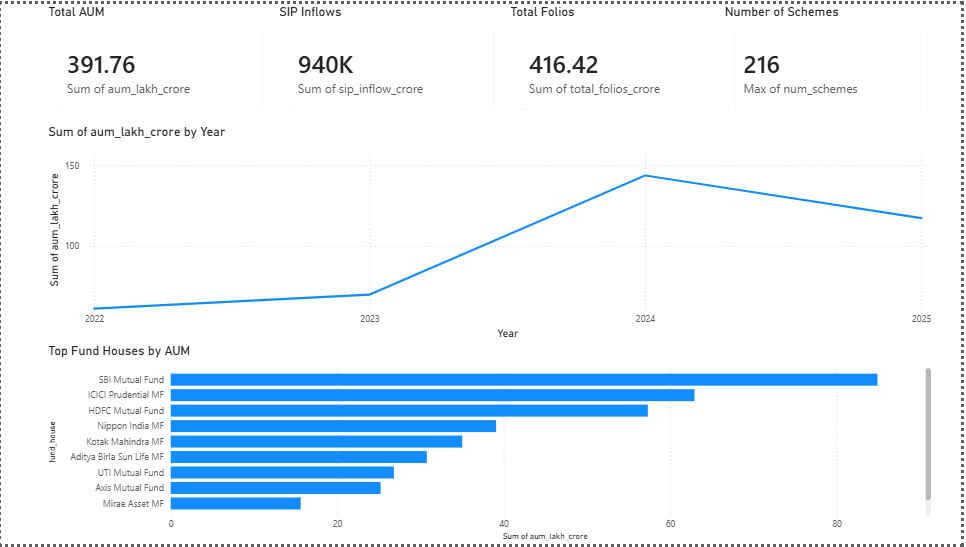

The dashboard page shown, as its layout file describes it:
{"tool":"powerbi","page":{"name":"Industry Overview","canvas":[1280,720],"ordinal":0},"visuals":[{"type":"cardVisual","title":"Total AUM","fields":{"Data":["Sum(clean_aum_by_fund_house.aum_lakh_crore)"]},"box":[58.6,0,308,158.7],"z":0},{"type":"cardVisual","title":"SIP Inflows","fields":{"Data":["Sum(clean_monthly_sip_inflows.sip_inflow_crore)"]},"box":[366.6,0,308,158.7],"z":1000},{"type":"cardVisual","title":"Total Folios","fields":{"Data":["Sum(clean_industry_folio_count.total_folios_crore)"]},"box":[674.7,0,285.4,158.7],"z":2000},{"type":"cardVisual","title":"Number of Schemes","fields":{"Data":["Max(clean_aum_by_fund_house.num_schemes)"]},"box":[960,0,285.4,158.7],"z":3000},{"type":"lineChart","fields":{"Category":["clean_aum_by_fund_house.date.Variation.Date Hierarchy.Year"],"Y":["Sum(clean_aum_by_fund_house.aum_lakh_crore)"]},"box":[58.6,160.6,1186.8,291],"z":4000},{"type":"clusteredBarChart","title":"Top Fund Houses by AUM","fields":{"Category":["clean_aum_by_fund_house.fund_house"],"Y":["Sum(clean_aum_by_fund_house.aum_lakh_crore)"]},"box":[58.6,451.7,1186.8,268.3],"z":5000}]}

Visuals, with their boxes in screenshot pixels (x1, y1, x2, y2), scaled from the page's 1280x720 canvas onto the 966x547 screenshot:
"Total AUM" cardVisual: select_region(44, 0, 277, 121)
"SIP Inflows" cardVisual: select_region(277, 0, 509, 121)
"Total Folios" cardVisual: select_region(509, 0, 725, 121)
"Number of Schemes" cardVisual: select_region(724, 0, 940, 121)
lineChart - clean_aum_by_fund_house.date.Variation.Date Hierarchy.Year x Sum(clean_aum_by_fund_house.aum_lakh_crore): select_region(44, 122, 940, 343)
"Top Fund Houses by AUM" clusteredBarChart: select_region(44, 343, 940, 546)
